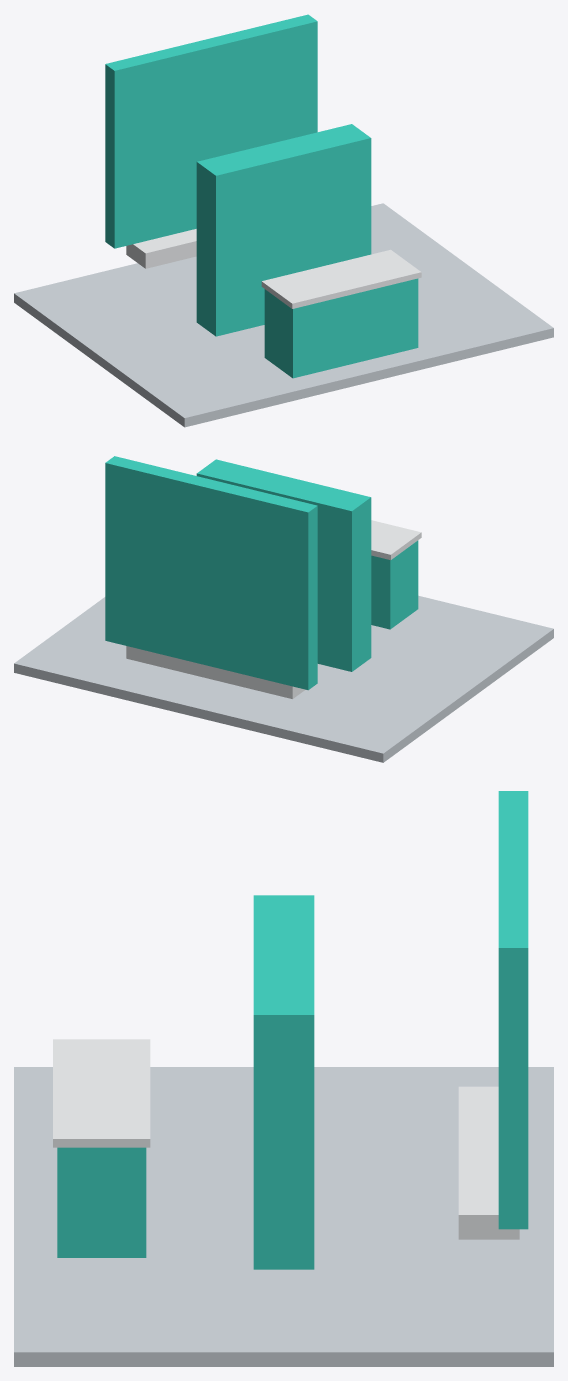
3 renders of one model, top to bottom at view 1: azimuth 30°, elevation 25°; view 2: azimuth 150°, elevation 25°; view 3: azimuth 270°, elevation 25°, orthographic. The views are drawn at different scales.
Parts seen in each view (by area): view 1: Exhibition Booth Concept; view 2: Exhibition Booth Concept; view 3: Exhibition Booth Concept.
Part boxes in pixels (x1=…): Exhibition Booth Concept: x1=14, y1=14, x2=553, y2=427; Exhibition Booth Concept: x1=14, y1=456, x2=553, y2=762; Exhibition Booth Concept: x1=14, y1=791, x2=553, y2=1366.
Size of the model in its own units: 5 by 2.9 by 4.
